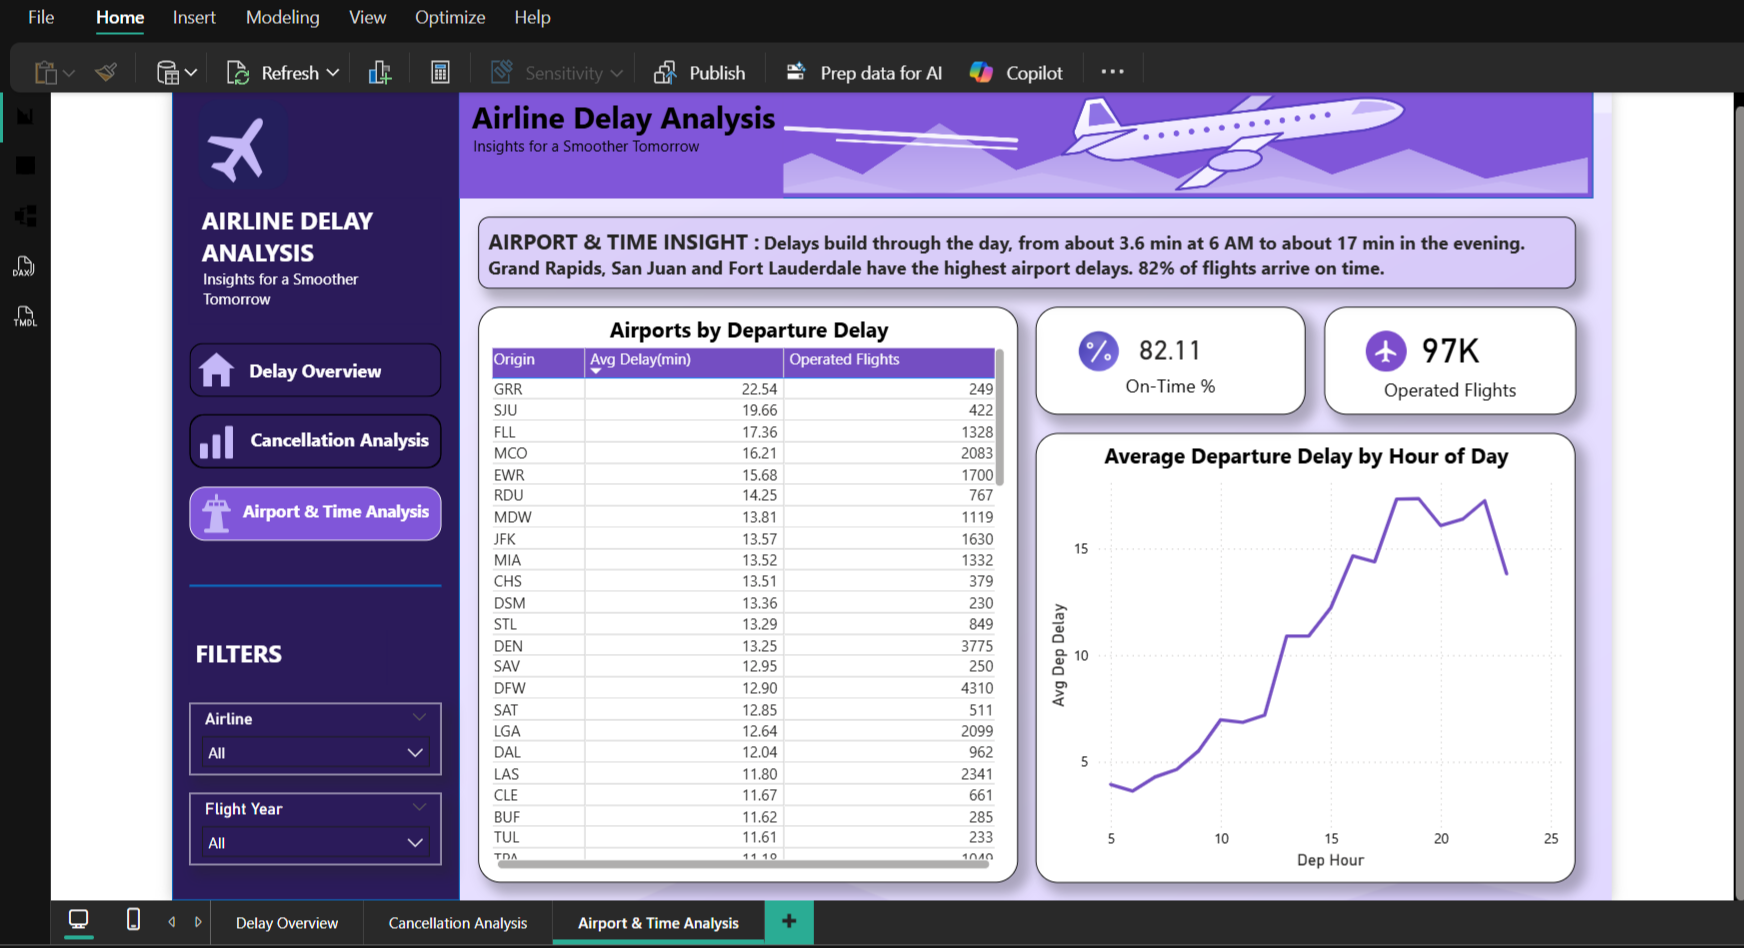

The page's visual inventory and layout, read from the dashboard file:
{"tool":"powerbi","page":{"name":"Airport & Time Analysis","canvas":[1280,720],"ordinal":2},"visuals":[{"type":"card","fields":{"Values":["public flights.Operated Flights"]},"box":[1024,192,224,96],"z":0},{"type":"lineChart","title":"Average Departure Delay by Hour of Day","fields":{"Category":["public flights.Dep Hour"],"Y":["public flights.Avg Dep Delay"]},"box":[768,304,480,400],"z":1000},{"type":"shape","box":[0,0,256,720],"z":2000},{"type":"slicer","fields":{"Values":["public flights.airline"]},"box":[16,544,224,64],"z":3000},{"type":"card","fields":{"Values":["public flights.On-Time %"]},"box":[768,192,240,96],"z":4000},{"type":"shape","box":[256,0,1008,96],"z":5000},{"type":"image","box":[496,0,768,96],"z":6000},{"type":"textbox","box":[16,96,224,112],"z":7000},{"type":"textbox","box":[256,0,288,96],"z":8000},{"type":"image","box":[16,0,96,96],"z":9000},{"type":"actionButton","box":[16,224,224,48],"z":10000},{"type":"image","box":[16,224,48,48],"z":11000},{"type":"textbox","box":[16,288,224,48],"z":12000},{"type":"image","box":[16,288,48,48],"z":13000},{"type":"textbox","box":[16,480,176,48],"z":14000},{"type":"textbox","box":[272,112,976,64],"z":15000},{"type":"image","box":[800,208,48,48],"z":16000},{"type":"shape","box":[16,432,224,16],"z":17000},{"type":"slicer","fields":{"Values":["public flights.Flight Year"]},"box":[16,624,224,64],"z":18000},{"type":"tableEx","title":"Airports by Departure Delay","fields":{"Values":["public flights.origin","public flights.Avg Dep Delay","public flights.Operated Flights"]},"box":[272,192,480,512],"z":19000},{"type":"textbox","box":[16,352,224,48],"z":20000},{"type":"image","box":[1056,208,48,48],"z":21000},{"type":"image","box":[16,352,48,48],"z":23000},{"type":"actionButton","box":[16,288,224,48],"z":23500}]}

Visuals, with their boxes on the page's 1280x720 design canvas (x1, y1, x2, y2). These are canvas units, not pixel positions in the 1744x948 screenshot, which may show the page scaled, cropped or inside an application window:
card - public flights.Operated Flights: [left=1024, top=192, right=1248, bottom=288]
"Average Departure Delay by Hour of Day" lineChart: [left=768, top=304, right=1248, bottom=704]
shape: [left=0, top=0, right=256, bottom=720]
slicer - public flights.airline: [left=16, top=544, right=240, bottom=608]
card - public flights.On-Time %: [left=768, top=192, right=1008, bottom=288]
shape: [left=256, top=0, right=1264, bottom=96]
image: [left=496, top=0, right=1264, bottom=96]
textbox: [left=16, top=96, right=240, bottom=208]
textbox: [left=256, top=0, right=544, bottom=96]
image: [left=16, top=0, right=112, bottom=96]
actionButton: [left=16, top=224, right=240, bottom=272]
image: [left=16, top=224, right=64, bottom=272]
textbox: [left=16, top=288, right=240, bottom=336]
image: [left=16, top=288, right=64, bottom=336]
textbox: [left=16, top=480, right=192, bottom=528]
textbox: [left=272, top=112, right=1248, bottom=176]
image: [left=800, top=208, right=848, bottom=256]
shape: [left=16, top=432, right=240, bottom=448]
slicer - public flights.Flight Year: [left=16, top=624, right=240, bottom=688]
"Airports by Departure Delay" tableEx: [left=272, top=192, right=752, bottom=704]
textbox: [left=16, top=352, right=240, bottom=400]
image: [left=1056, top=208, right=1104, bottom=256]
image: [left=16, top=352, right=64, bottom=400]
actionButton: [left=16, top=288, right=240, bottom=336]
